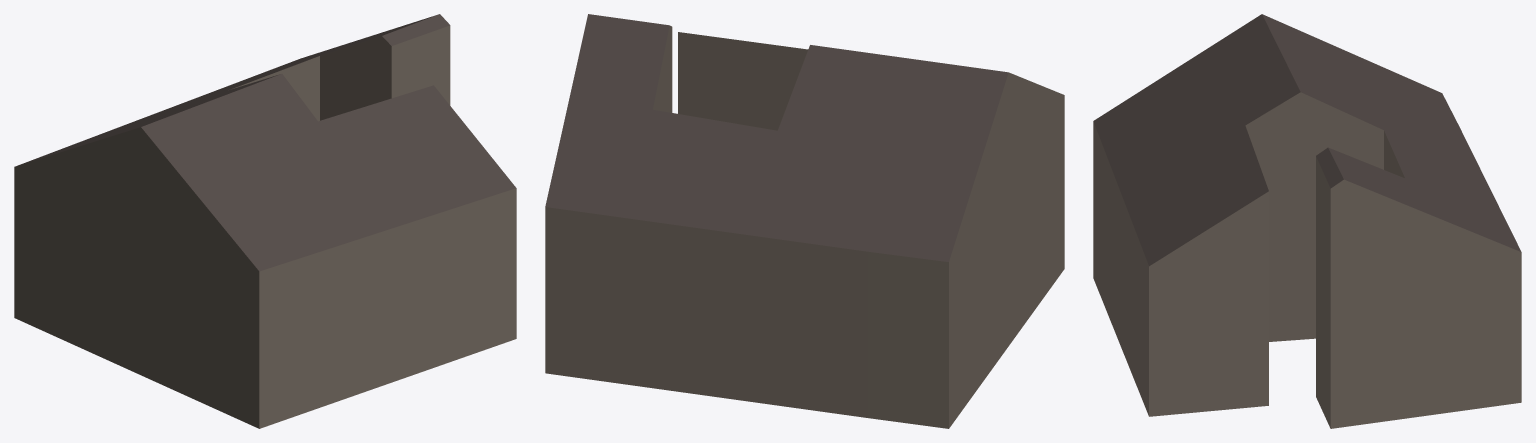
The picture shows the model from 3 angles, left to right: view 1: azimuth 30°, elevation 25°; view 2: azimuth 150°, elevation 25°; view 3: azimuth 270°, elevation 25°; orthographic projection. The views are drawn at different scales.
Visible parts, largest first — view 1: HP-w1198664291; view 2: HP-w1198664291; view 3: HP-w1198664291.
Part boxes in pixels (bbox=[...]): HP-w1198664291: bbox=[14, 14, 516, 428]; HP-w1198664291: bbox=[545, 14, 1064, 428]; HP-w1198664291: bbox=[1093, 14, 1521, 428].
Bounding box in the file's own units: 15.83 × 9.88 × 15.49.
